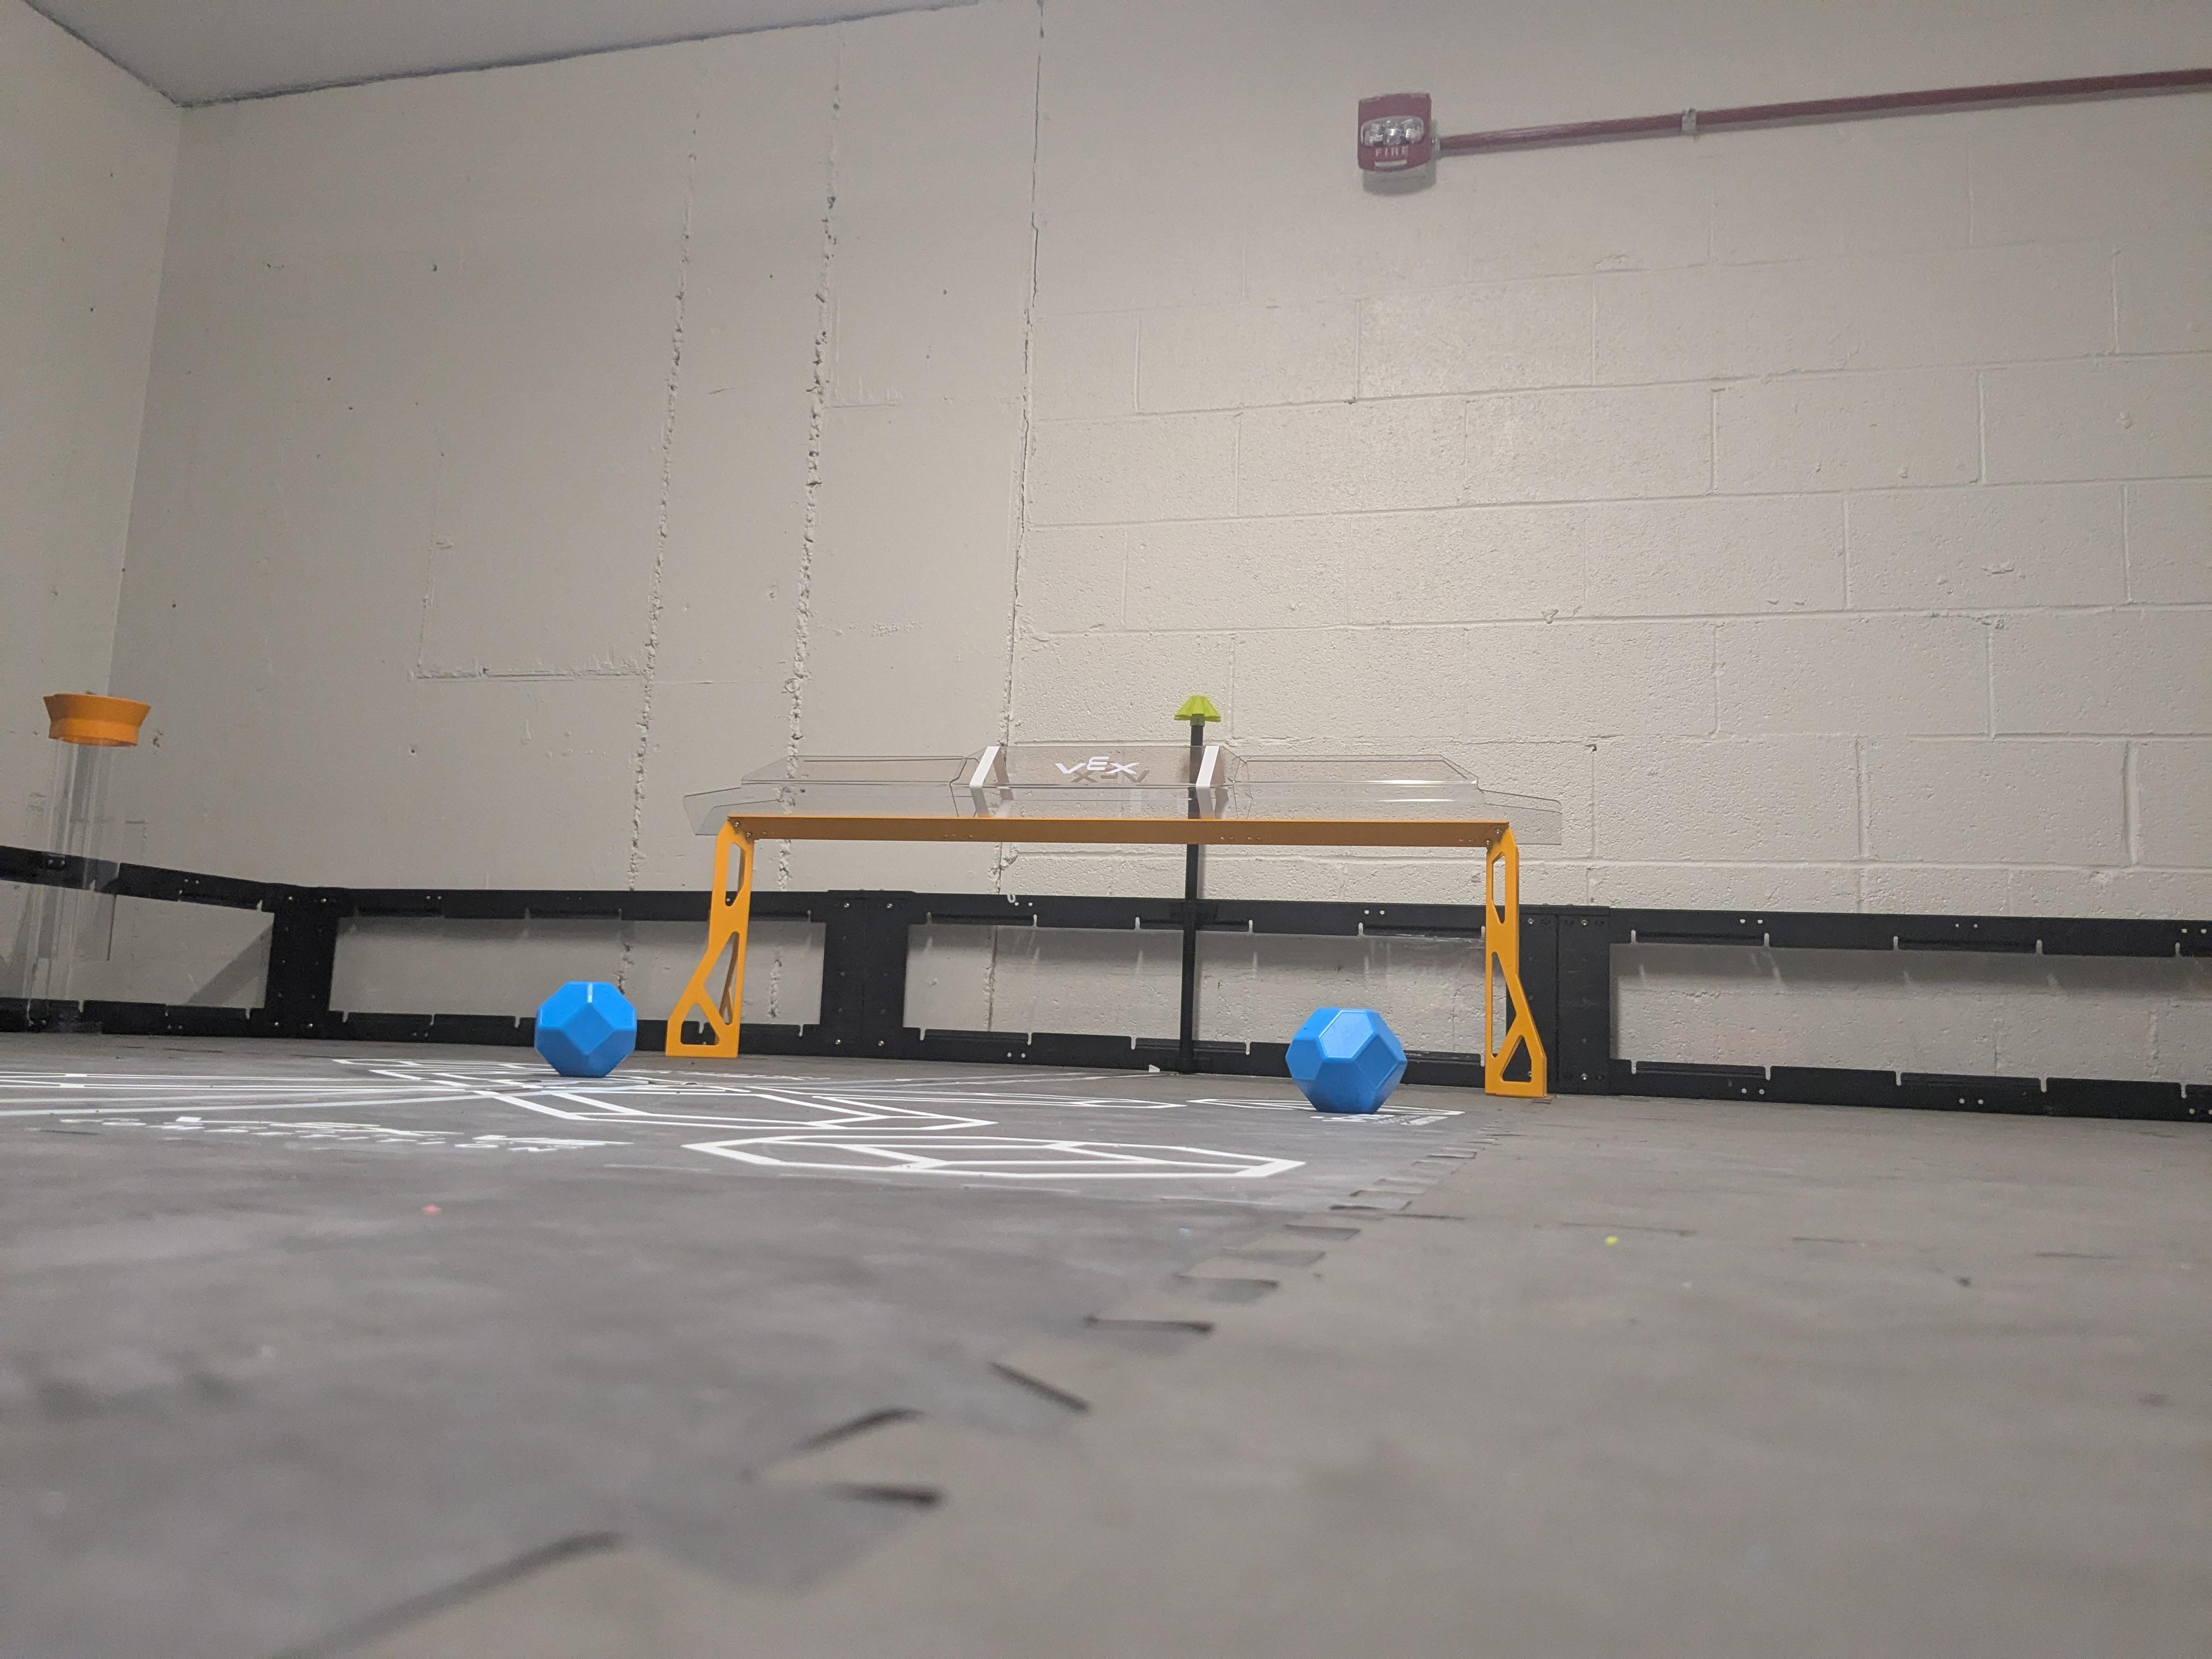Vex-Pieces-BLUE: (1289, 1006, 1406, 1114), (535, 981, 636, 1075)
